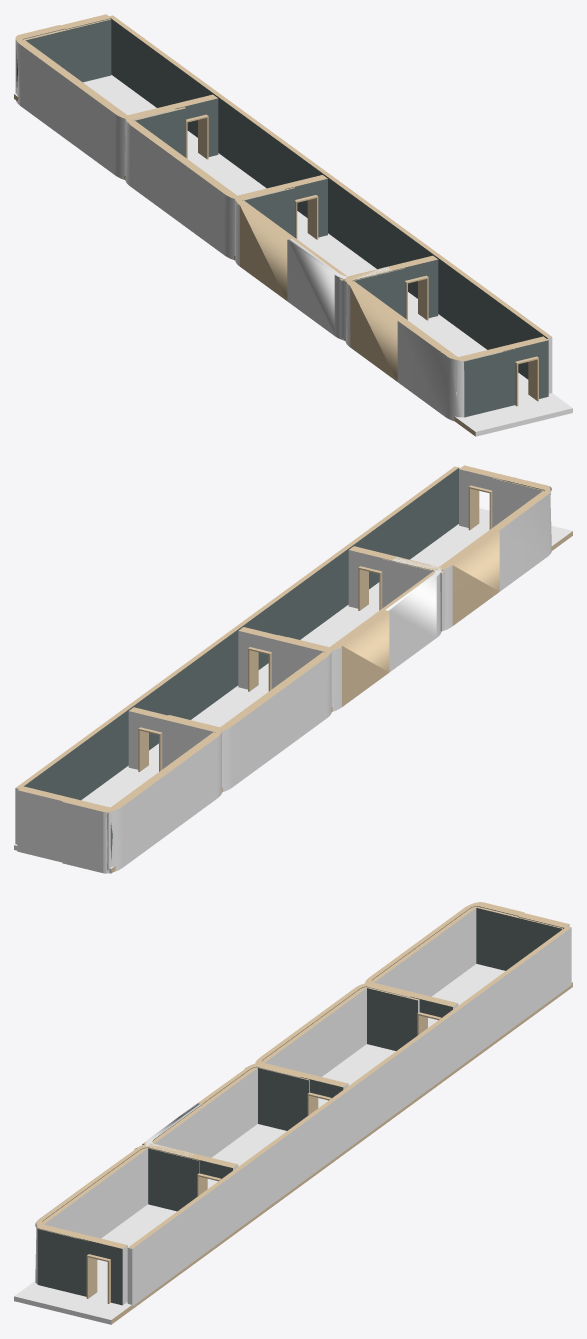
The model's file is Stage.gltf.
The picture shows the model from 3 angles, top to bottom: view 1: azimuth 30°, elevation 25°; view 2: azimuth 150°, elevation 25°; view 3: azimuth 330°, elevation 25°; orthographic projection.
Visible parts, largest first — view 1: Stage, COL1, COL2, COL8, COL4, COL3, COL7, COL6, COL5; view 2: Stage, COL1, COL2, COL3, COL4, COL5; view 3: COL1, COL3, COL2, Stage, COL8, COL4, COL7, COL5, COL6.
Boxes of the visible parts, x1,y1,x2,y2 form: Stage: (15, 14, 548, 420); COL1: (109, 15, 552, 393); COL2: (14, 75, 572, 436); COL8: (15, 19, 111, 93); COL4: (464, 349, 515, 417); COL3: (17, 39, 457, 395); COL7: (134, 107, 186, 157); COL6: (244, 187, 295, 237); COL5: (354, 268, 404, 317); Stage: (17, 465, 551, 873); COL1: (15, 466, 459, 844); COL2: (14, 508, 572, 873); COL3: (110, 490, 550, 860); COL4: (492, 478, 543, 527); COL5: (382, 558, 432, 608); COL1: (127, 926, 571, 1306); COL3: (36, 906, 477, 1260); COL2: (14, 964, 572, 1324); Stage: (35, 902, 569, 1305); COL8: (474, 906, 562, 970); COL4: (38, 1229, 88, 1296); COL7: (367, 987, 419, 1050); COL5: (148, 1148, 199, 1211); COL6: (258, 1068, 309, 1130).
Size of the model in its own units: 2.75 by 1.61 by 22.04.
